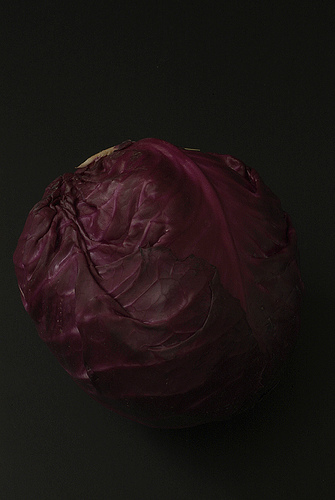cabbage: (11, 137, 303, 428)
